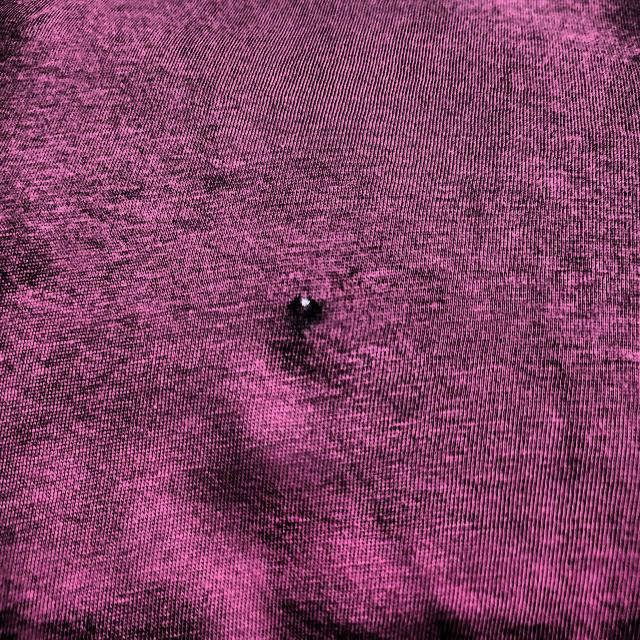Hole: (287, 287, 327, 322)
